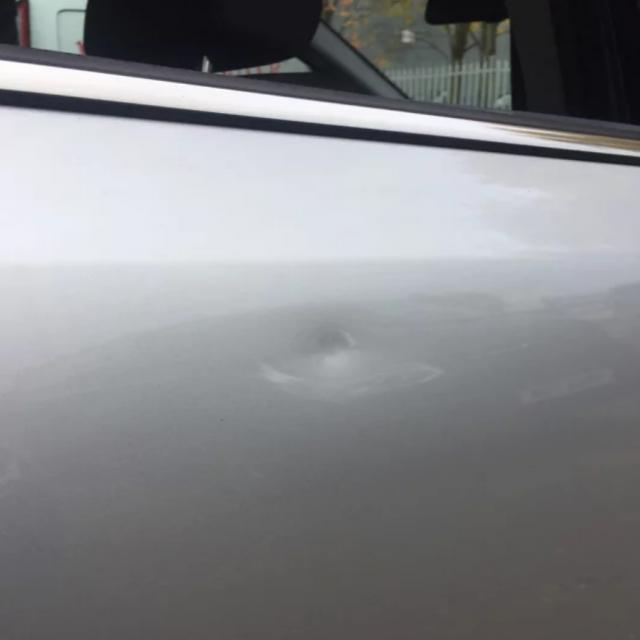dents: (260, 310, 412, 454)
